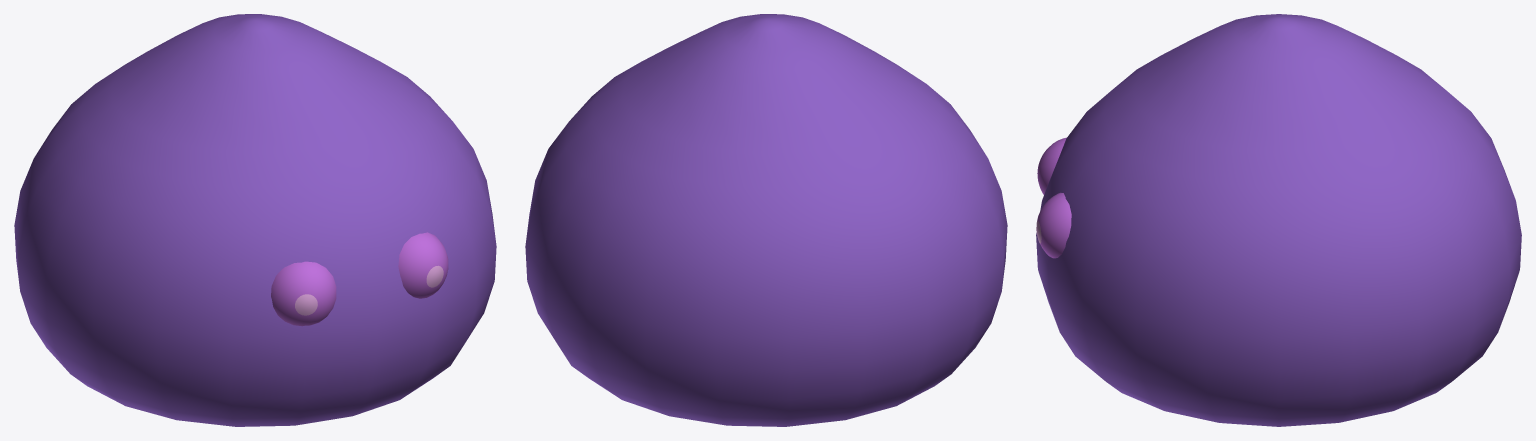
The model's file is Slime.fbx.
The picture shows the model from 3 angles, left to right: view 1: azimuth 30°, elevation 25°; view 2: azimuth 150°, elevation 25°; view 3: azimuth 270°, elevation 25°; orthographic projection.
Parts seen in each view (by area): view 1: pSphere6; view 2: pSphere6; view 3: pSphere6.
Boxes of the visible parts, x1,y1,x2,y2 form: pSphere6: [14, 14, 496, 426]; pSphere6: [525, 14, 1007, 426]; pSphere6: [1036, 14, 1521, 426].
Bounding box in the file's own units: 6.63 × 5.24 × 6.63.
